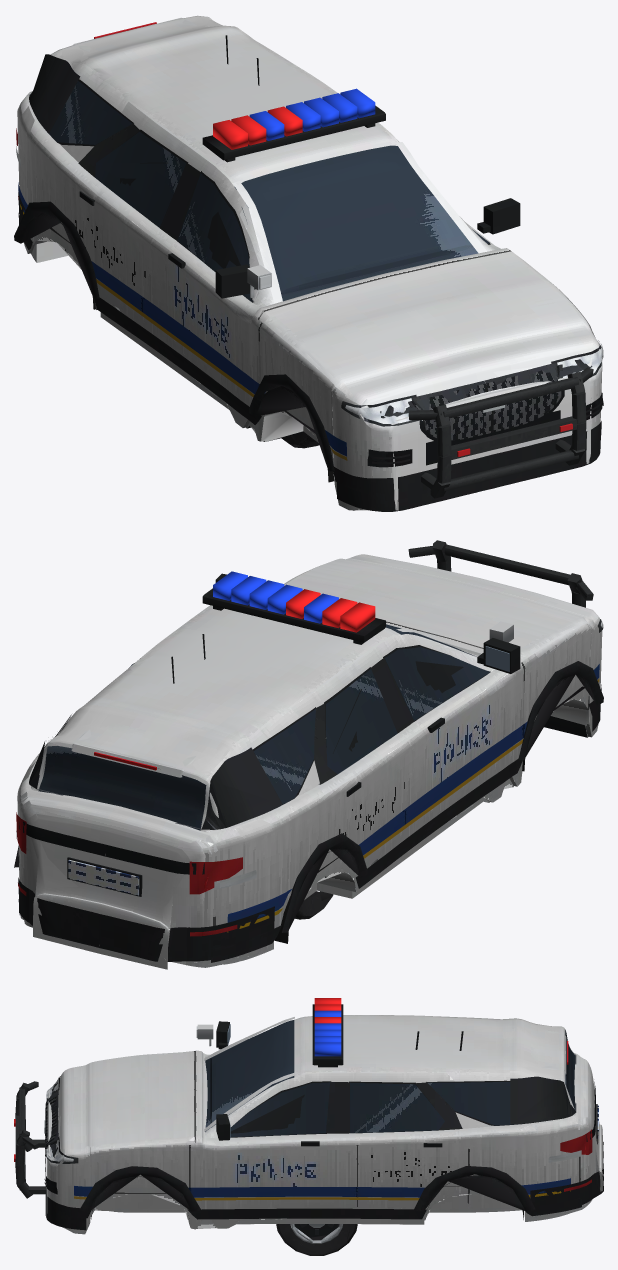
File: pathwaypiu23.glb
The picture shows the model from 3 angles, top to bottom: view 1: azimuth 30°, elevation 25°; view 2: azimuth 150°, elevation 25°; view 3: azimuth 270°, elevation 25°; orthographic projection. The views are drawn at different scales.
Visible parts, largest first — view 1: Paint, Body, Paint_far, Body_far, BarB, BarR; view 2: Paint, Body, Paint_far, Body_far, BarB, BarR; view 3: Paint, Body, Paint_far, Body_far, Wheel, BarB, Wheel_far, BarR.
Boxes of the visible parts, x1,y1,x2,y2 form: Paint: (17,15,602,510); Body: (14,23,603,511); Paint_far: (23,16,601,510); Body_far: (21,22,603,493); BarB: (249,88,375,140); BarR: (213,106,302,149); Paint: (17,554,602,969); Body: (14,540,603,962); Paint_far: (18,556,599,969); Body_far: (21,543,596,961); BarB: (213,571,338,623); BarR: (286,589,375,632); Paint: (46,1015,602,1233); Body: (14,1004,603,1230); Paint_far: (46,1015,601,1234); Body_far: (14,1024,601,1211); Wheel: (276,1224,357,1255); BarB: (314,1010,341,1056); Wheel_far: (291,1224,351,1254); BarR: (314,998,341,1023).
Size of the model in its own units: 2.21 by 2.3 by 5.34.
Materials: 5 (3 with a texture image).
